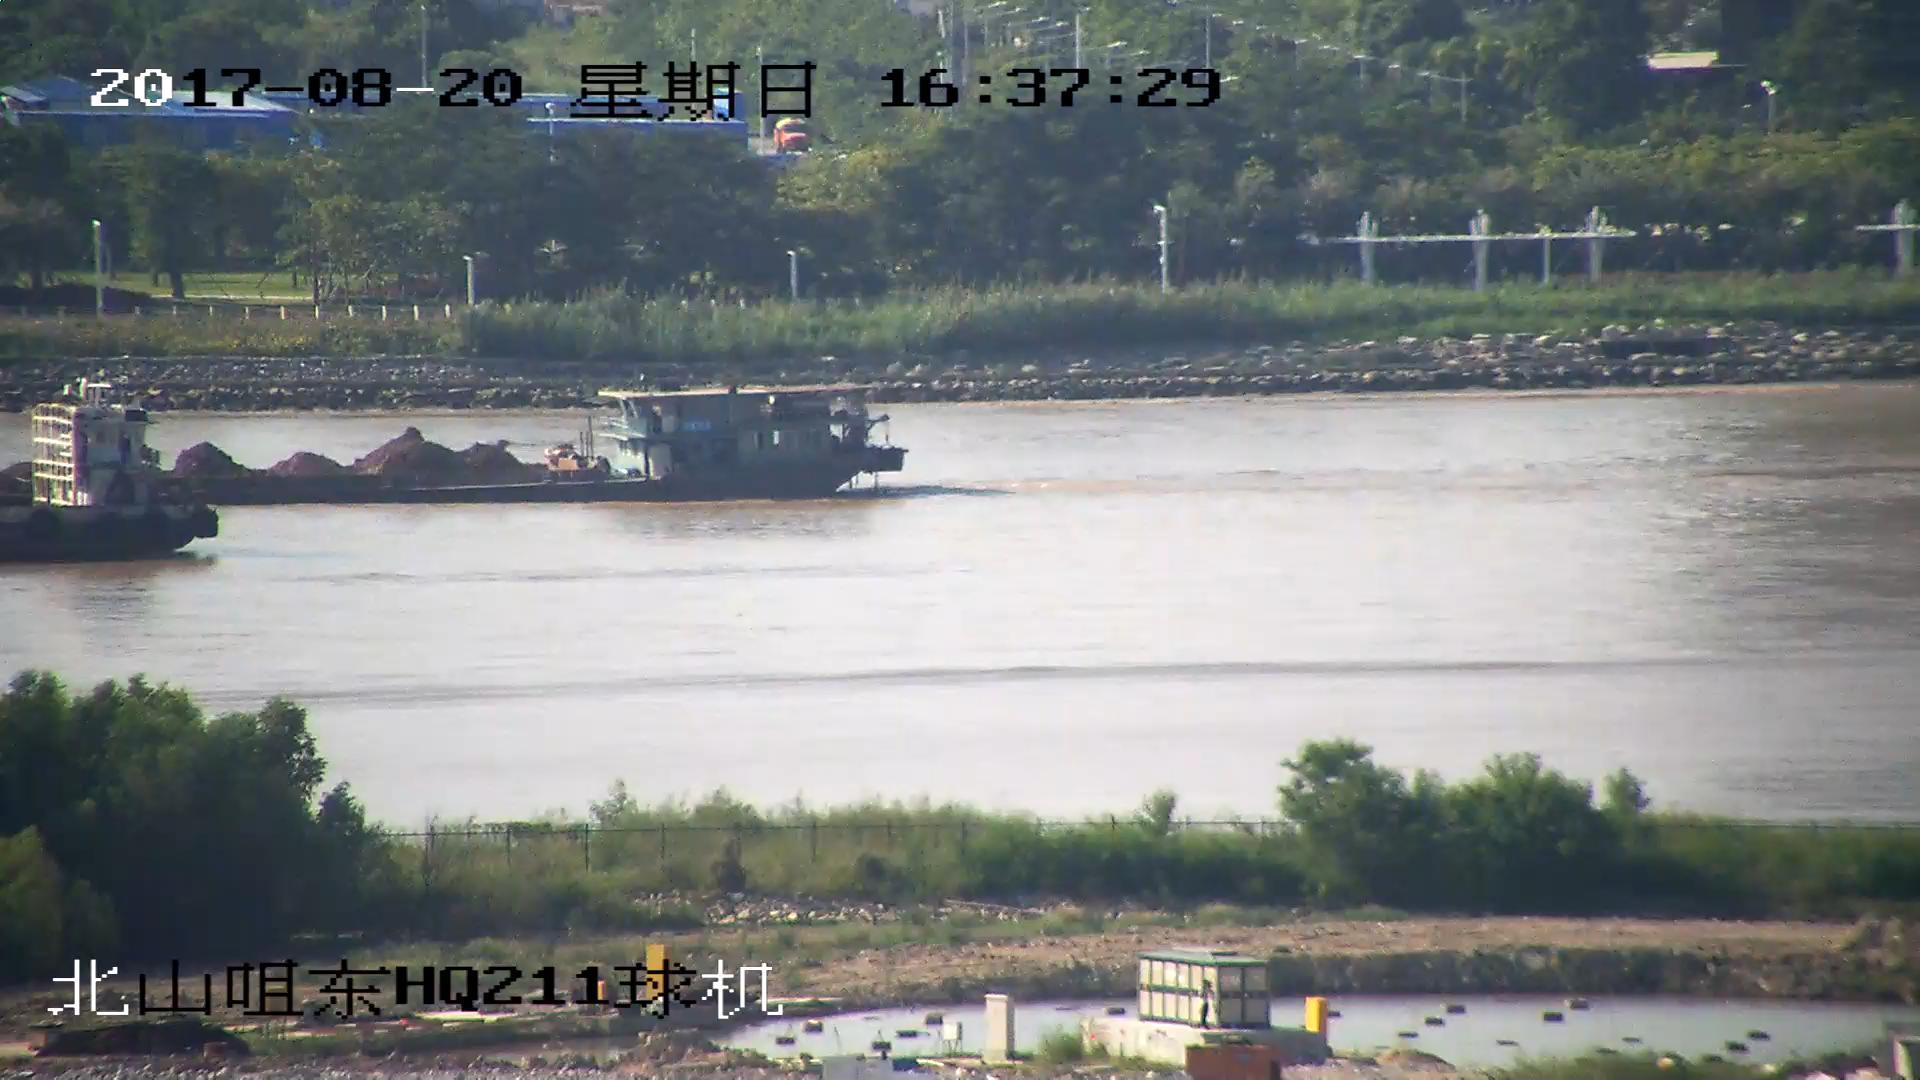Ship: (3, 380, 916, 504), (3, 385, 218, 563)
